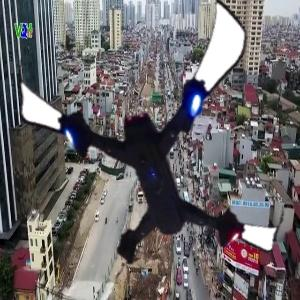drone: (10, 10, 280, 280)
